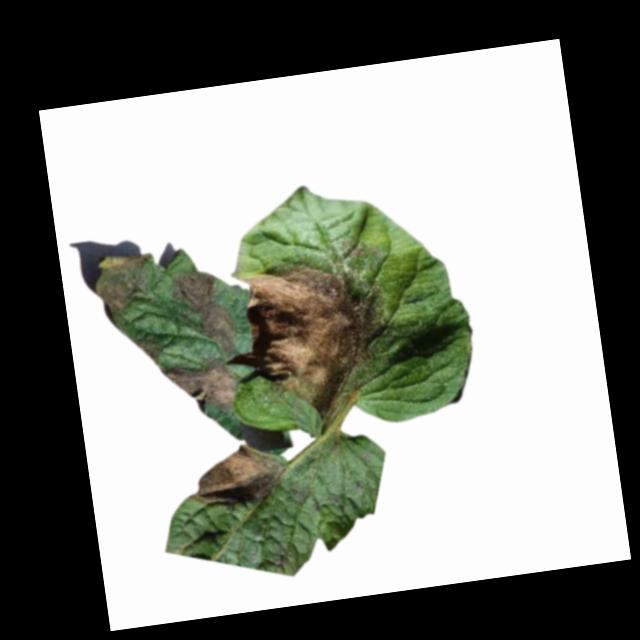Late_blight: (237, 253, 396, 430), (186, 439, 293, 515), (169, 266, 240, 363), (85, 247, 161, 323), (168, 354, 246, 421), (132, 334, 164, 368)
